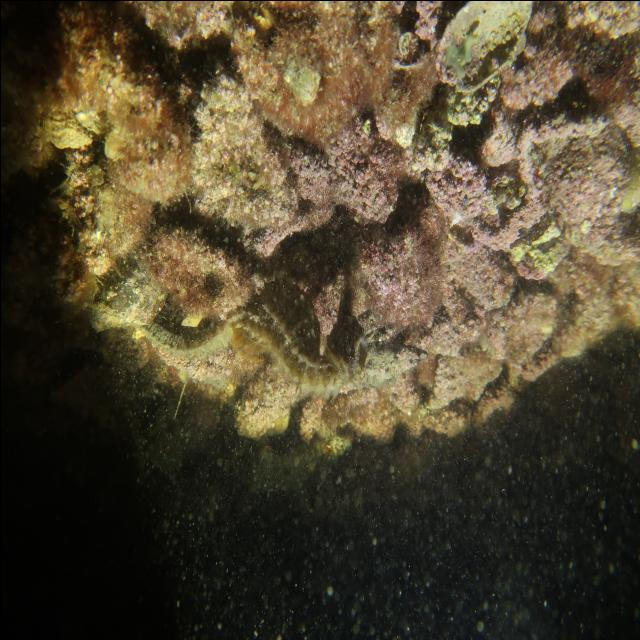Guttu: (318, 273, 367, 385)
